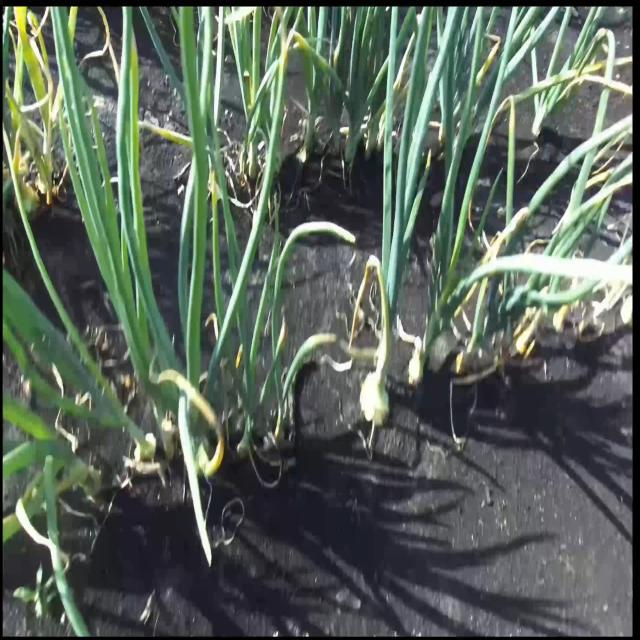onion: (357, 369, 393, 428)
